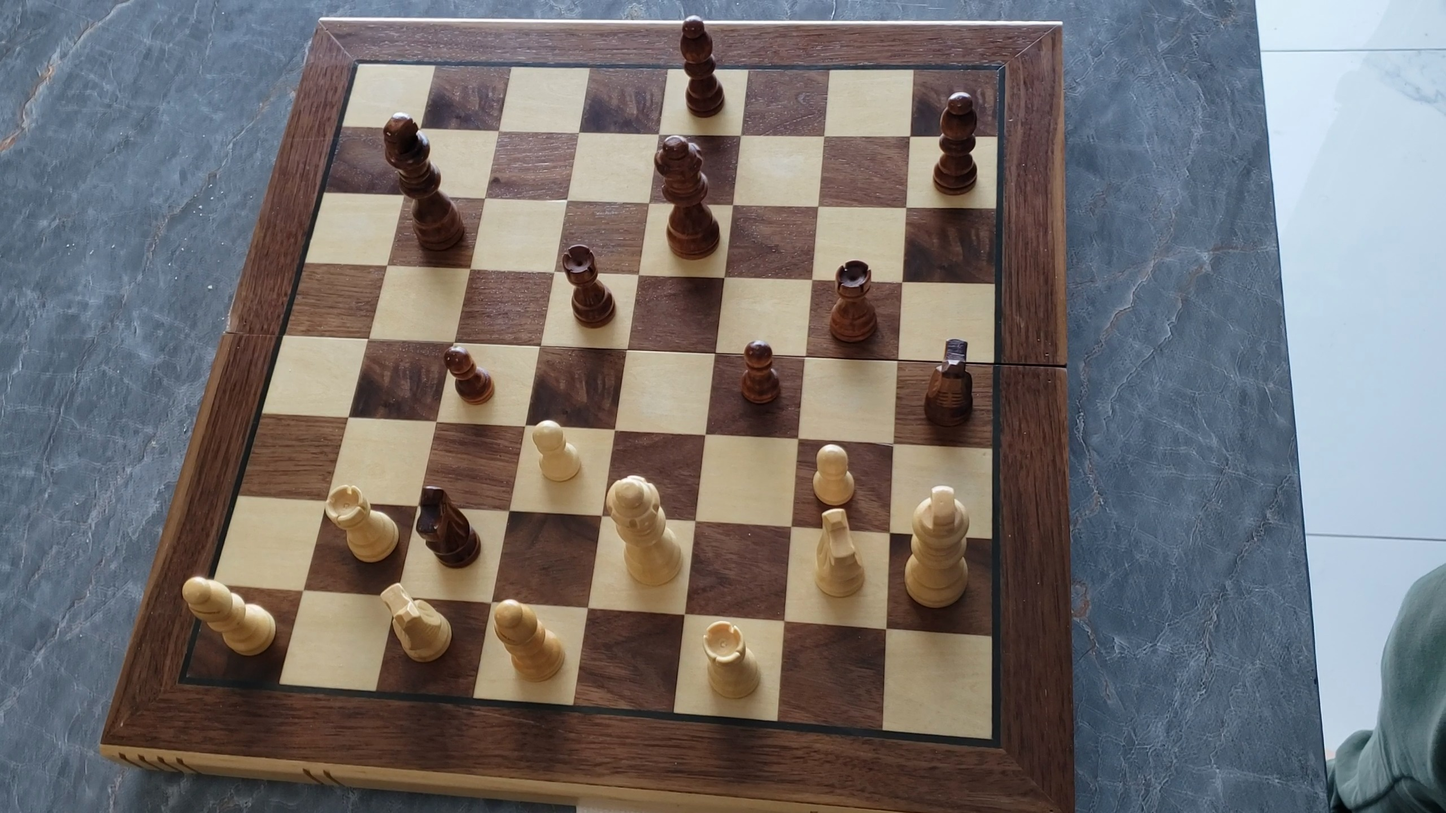black-bishop: (932, 87, 981, 196), (677, 10, 725, 118)
black-king: (377, 111, 467, 254)
black-knight: (414, 483, 484, 570), (921, 336, 977, 427)
black-pawn: (441, 342, 497, 406), (737, 336, 783, 408)
black-queen: (648, 127, 722, 264)
black-rook: (558, 242, 618, 330), (825, 257, 878, 346)
white-bishop: (177, 573, 280, 661), (485, 595, 569, 685)
white-king: (900, 483, 974, 613)
white-knight: (373, 578, 458, 668), (809, 505, 868, 601)
white-pawn: (526, 416, 585, 486), (802, 439, 863, 506)
white-queen: (600, 472, 689, 591)
white-rook: (321, 481, 402, 569), (696, 616, 766, 704)
